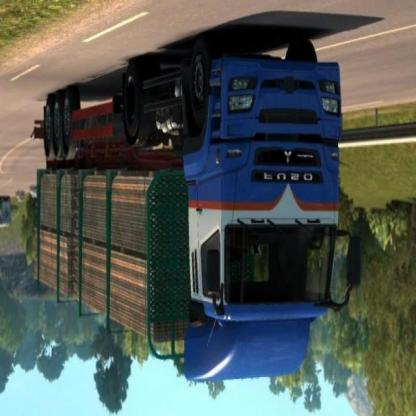truck: (32, 41, 358, 383)
